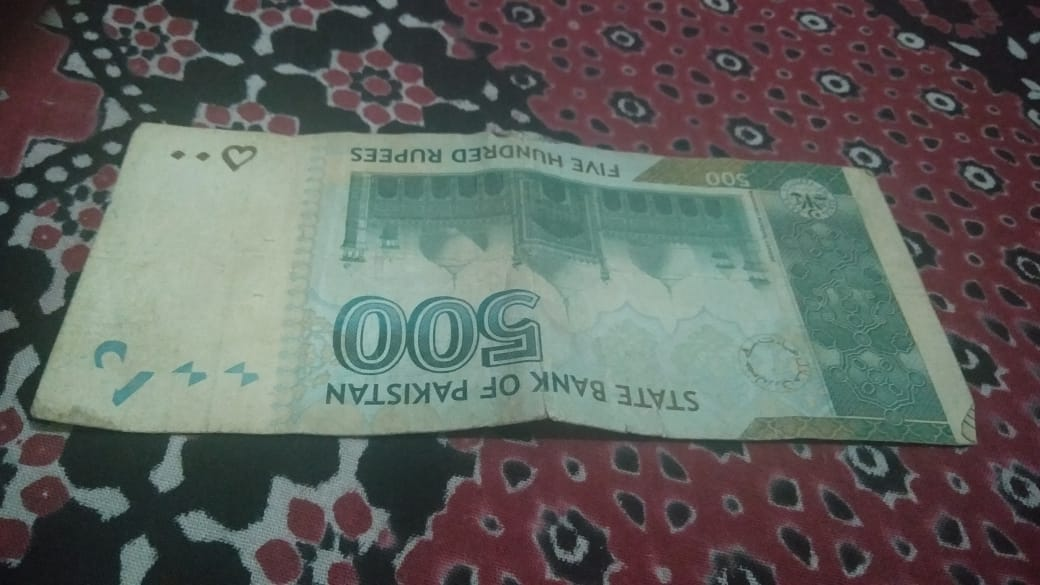500 rupee: (55, 111, 980, 475)
